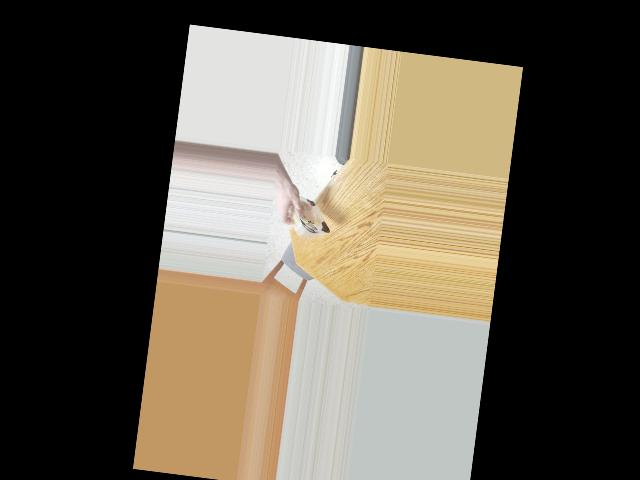cheese: (287, 182, 333, 245)
